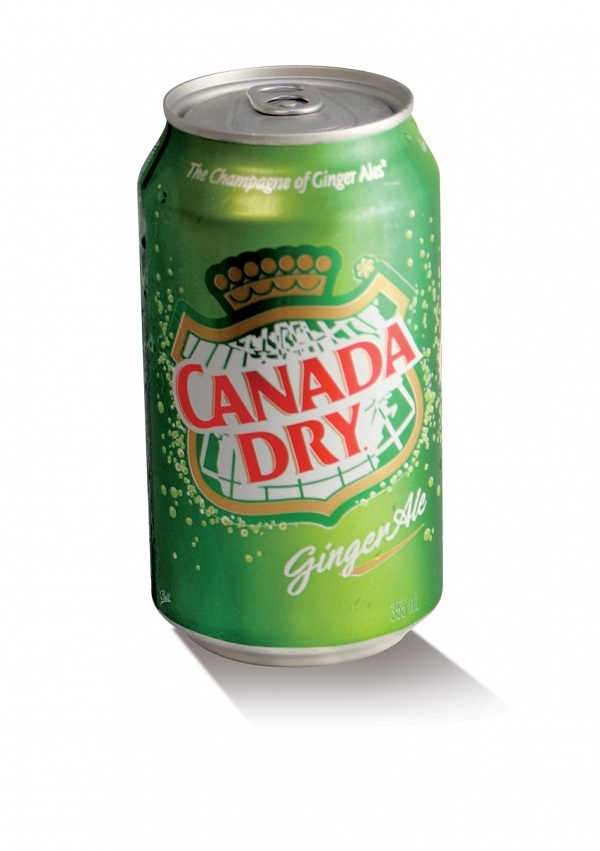Lata: (121, 59, 450, 674)
